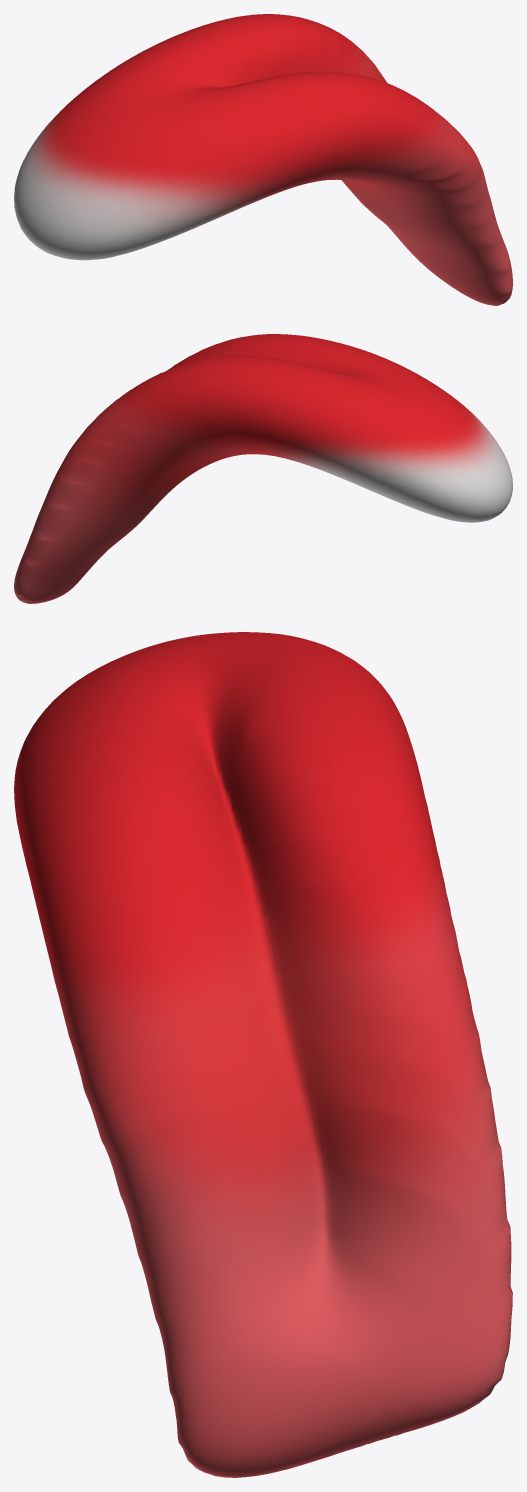
File: Tongue.fbx
The picture shows the model from 3 angles, top to bottom: view 1: azimuth 30°, elevation 25°; view 2: azimuth 150°, elevation 25°; view 3: azimuth 270°, elevation 25°; orthographic projection. The views are drawn at different scales.
Parts seen in each view (by area): view 1: Tongue; view 2: Tongue; view 3: Tongue.
Part boxes in pixels (x1=…): Tongue: x1=14, y1=14, x2=512, y2=305; Tongue: x1=14, y1=334, x2=512, y2=603; Tongue: x1=14, y1=632, x2=512, y2=1477.
Size of the model in its own units: 110 by 68.66 by 55.34.
